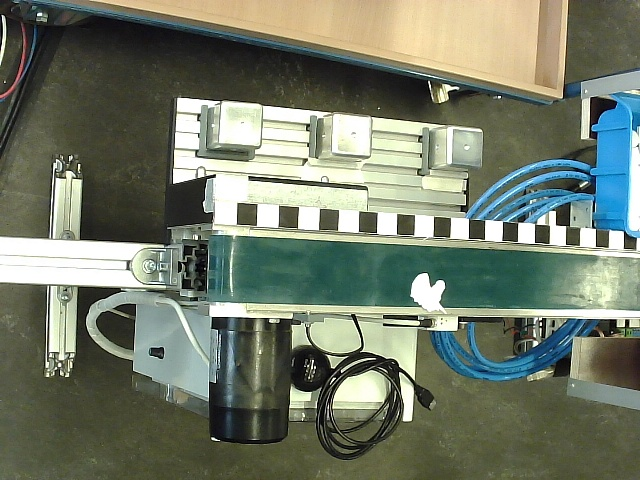unicorn: (409, 272, 448, 315)
